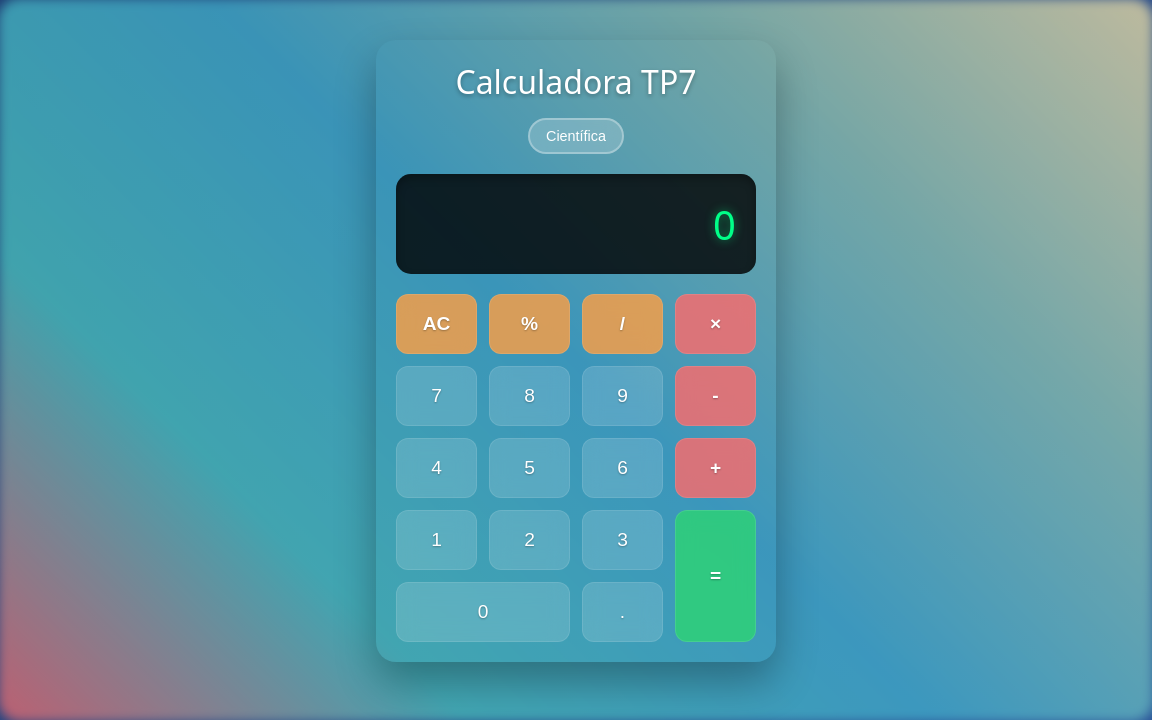
can input numbers
The width and height of the screenshot is (1152, 720).
Click the button "5" at point(530, 468), box left=489, top=438, right=570, bottom=498
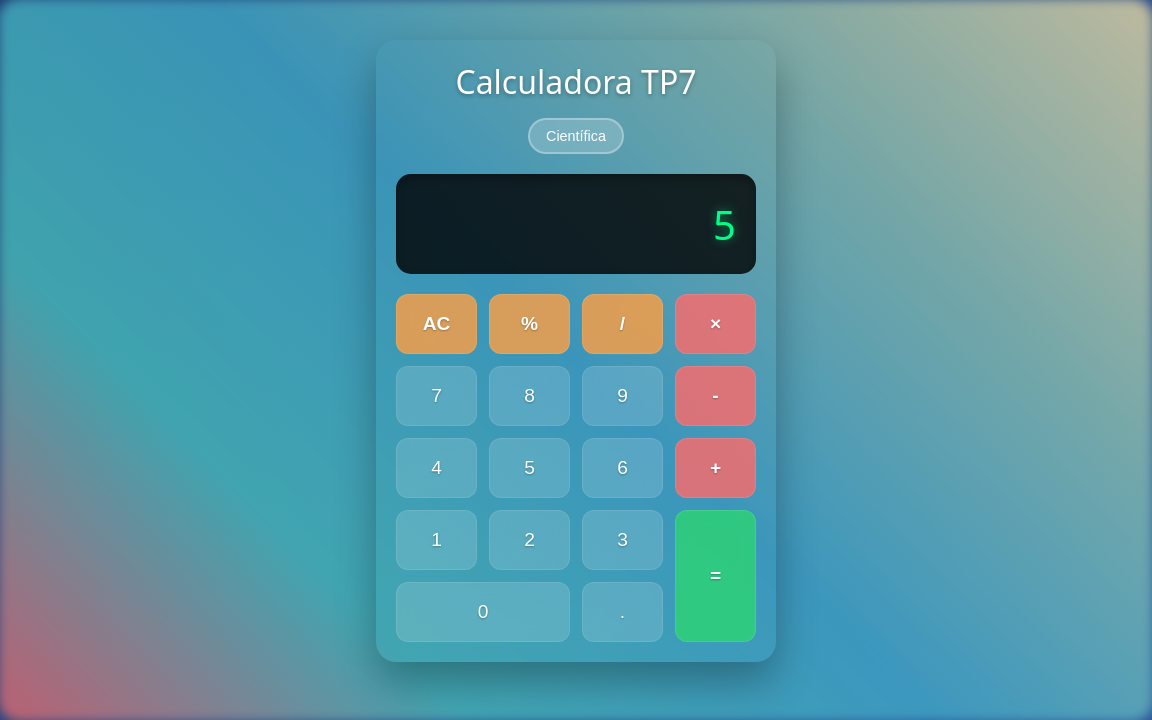
Expected: the field with test id "display" reads "5", left=713, top=196, right=736, bottom=252
